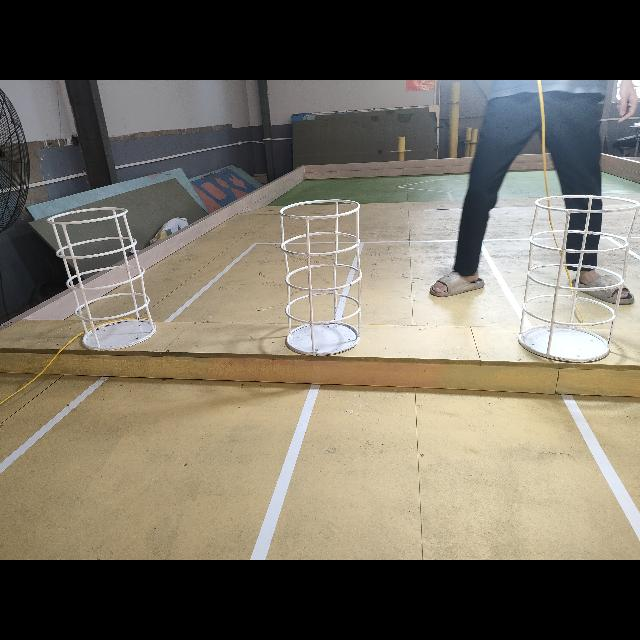S: (517, 193, 621, 363), (47, 208, 163, 350), (280, 192, 362, 362)
